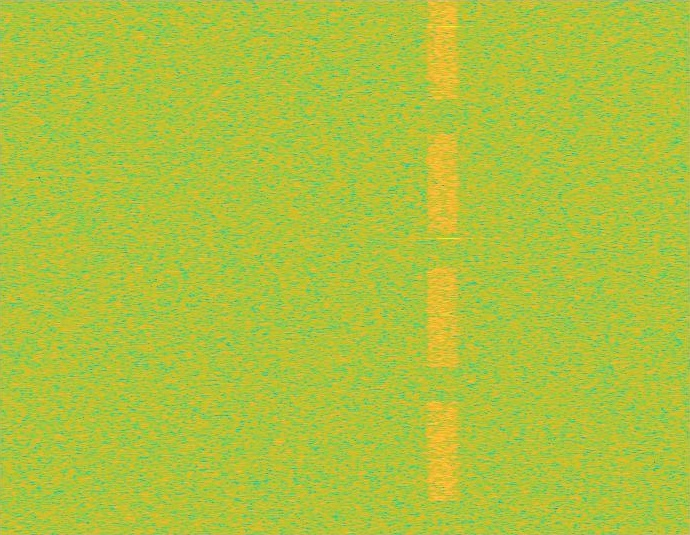5G: (426, 0, 460, 534)
Radar: (442, 0, 456, 534)
